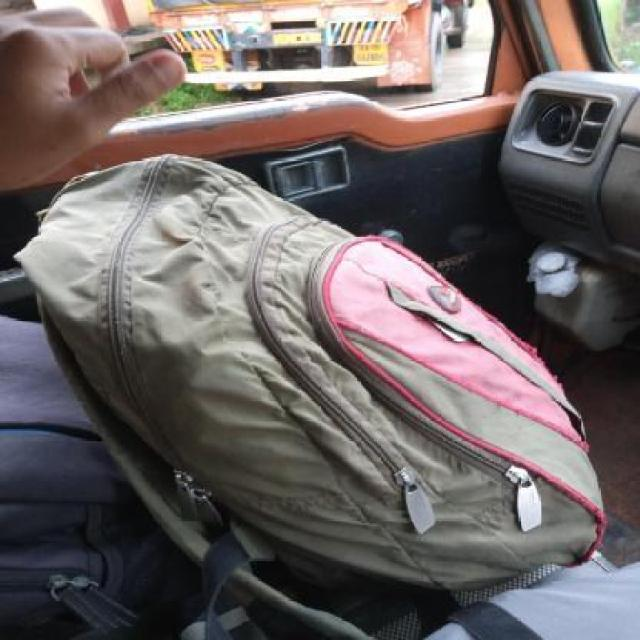backpack: (11, 151, 612, 597)
